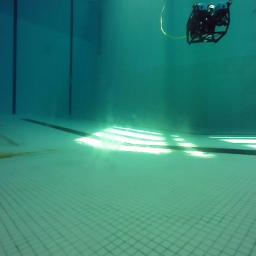front: (186, 1, 233, 44)
